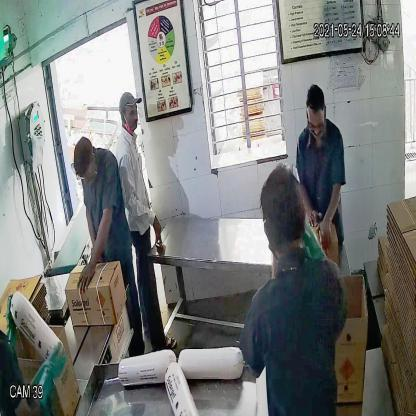no_goggles: (119, 105, 139, 122)
